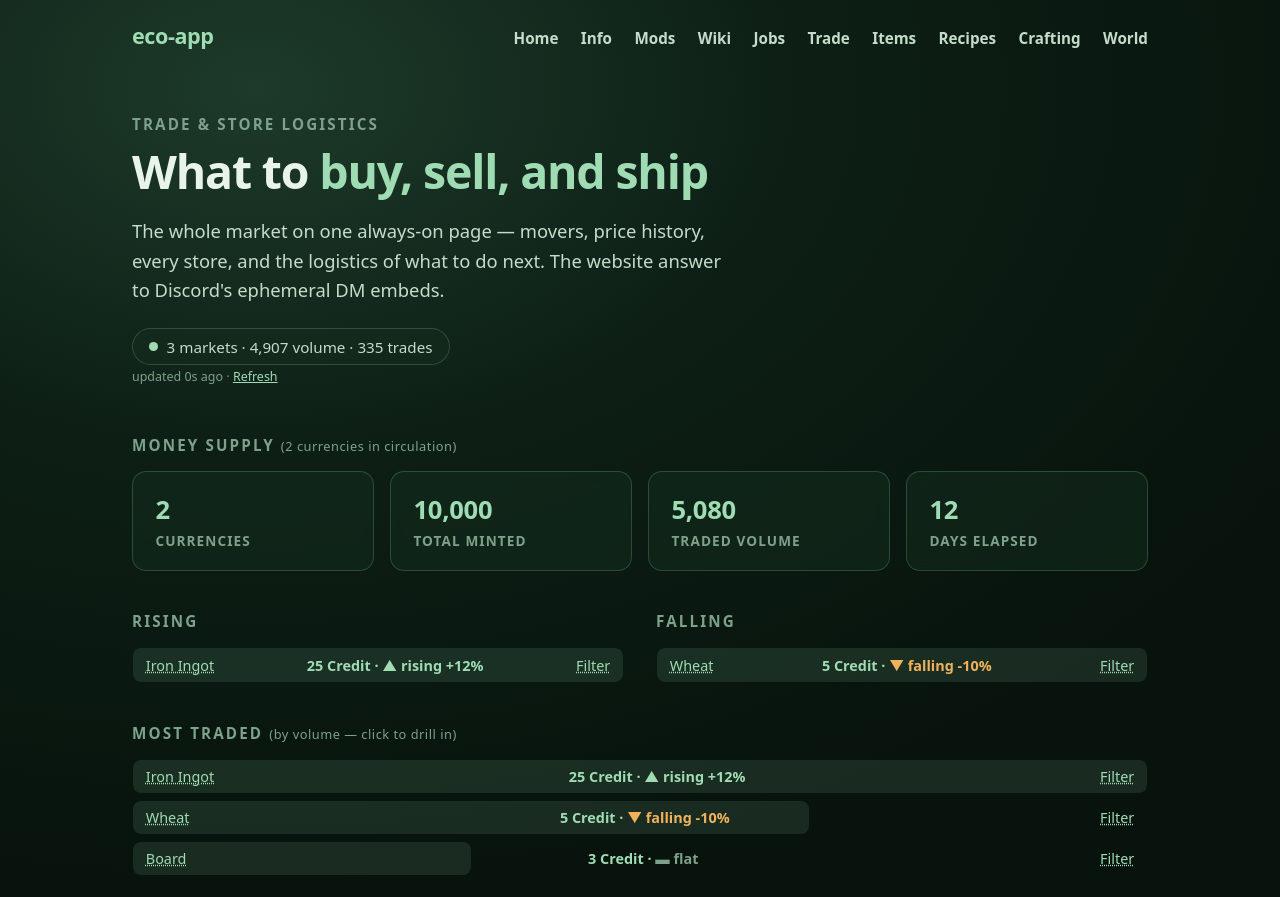
Scenario: Trade › links market names to their pivots while retaining the ledger filter action
Expected: the list with test id "most-traded" is shown, [132,759,1148,876]
Click the button with aria-label "Filter trade ledger by Wheat": (1117, 817) [1100,808,1134,827]
(page scrolled)
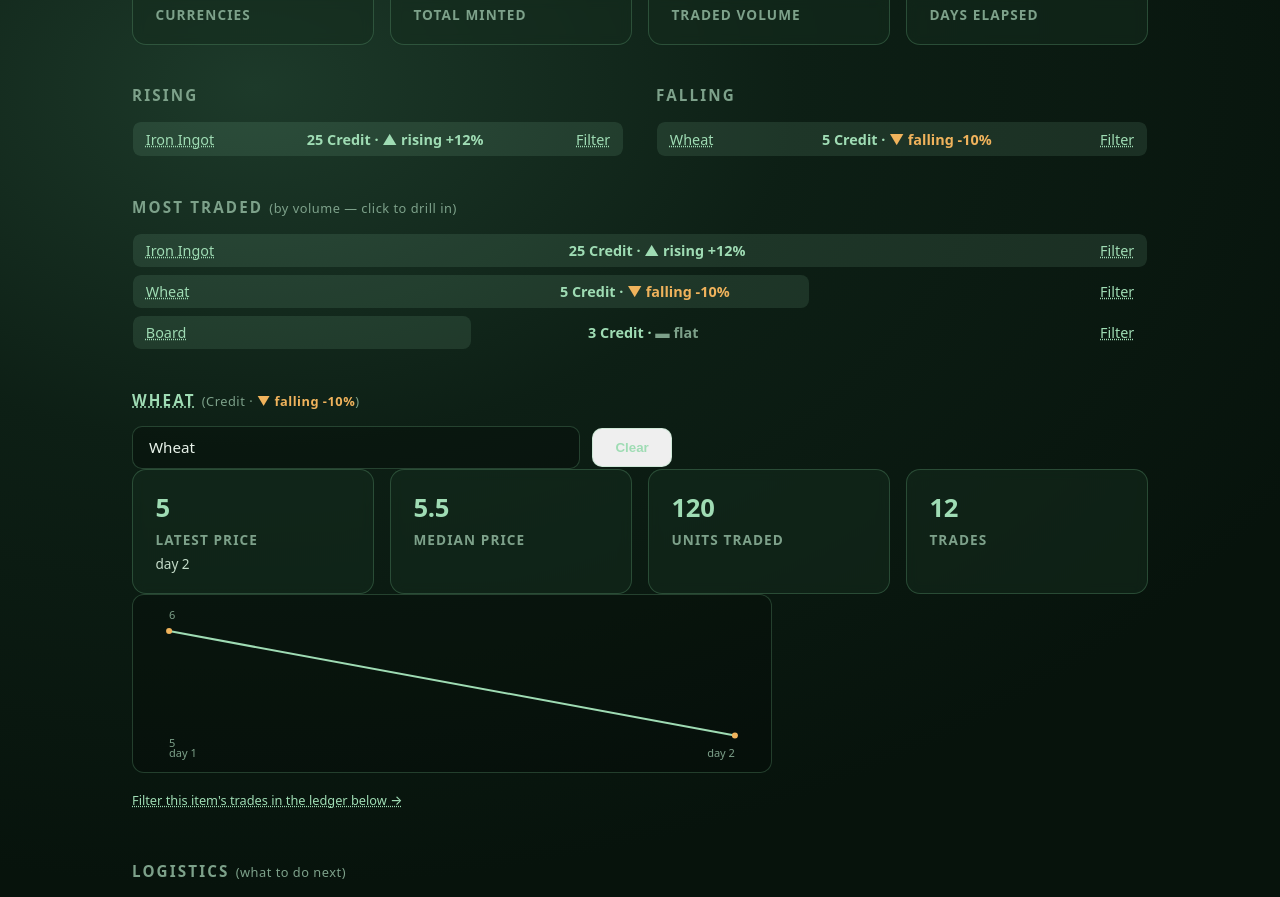
Now the search field with test id "trade-filter" holds "Wheat", box [132,426,580,469]
